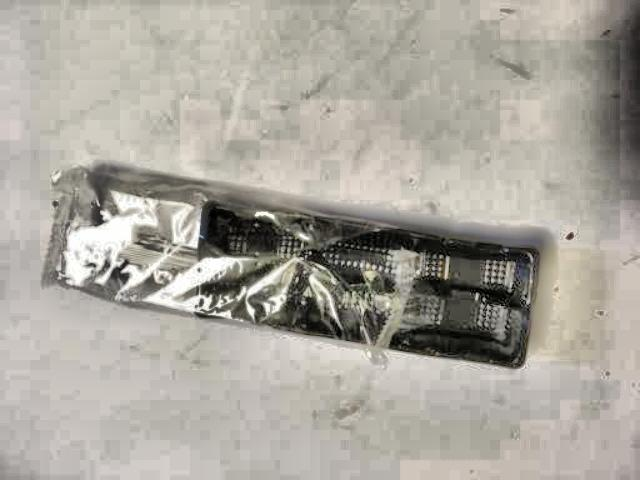Plastic: (39, 161, 538, 378)
